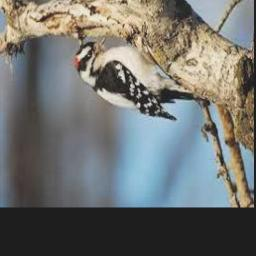Woodpecker: (75, 35, 210, 120)
